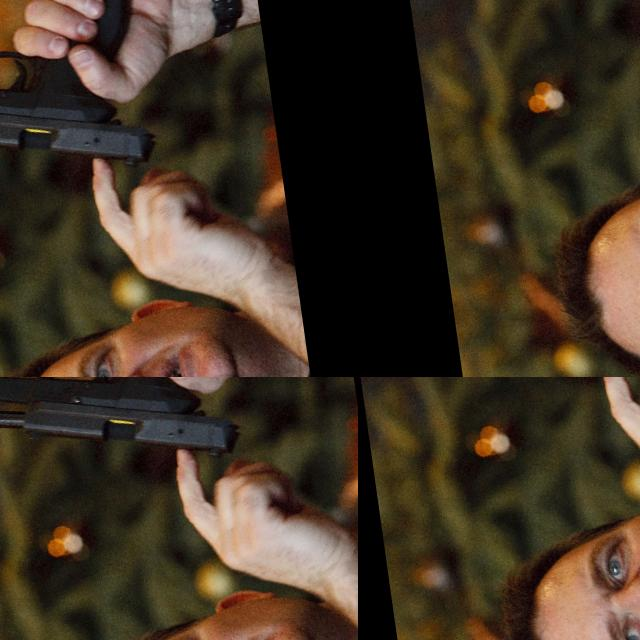handgun: (389, 377, 640, 465), (489, 346, 511, 359)
